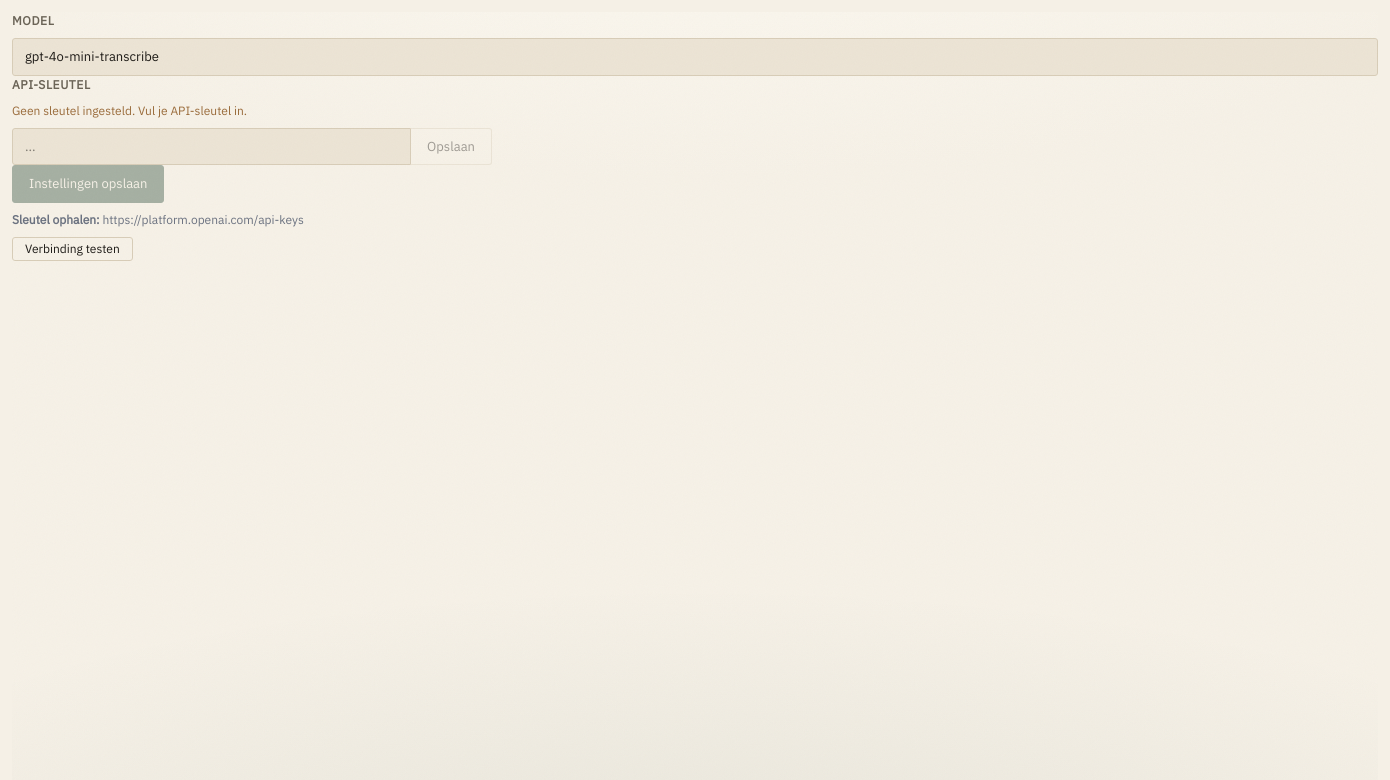
AudioAsrCard › starts with Save disabled on a clean load, enabled once a field is edited
Expected: the button with test id "save-audio-config" is disabled, [12, 165, 164, 202]
Type "whisper-1" into the field with test id "audio-model" at (695, 57), box [12, 38, 1378, 76]
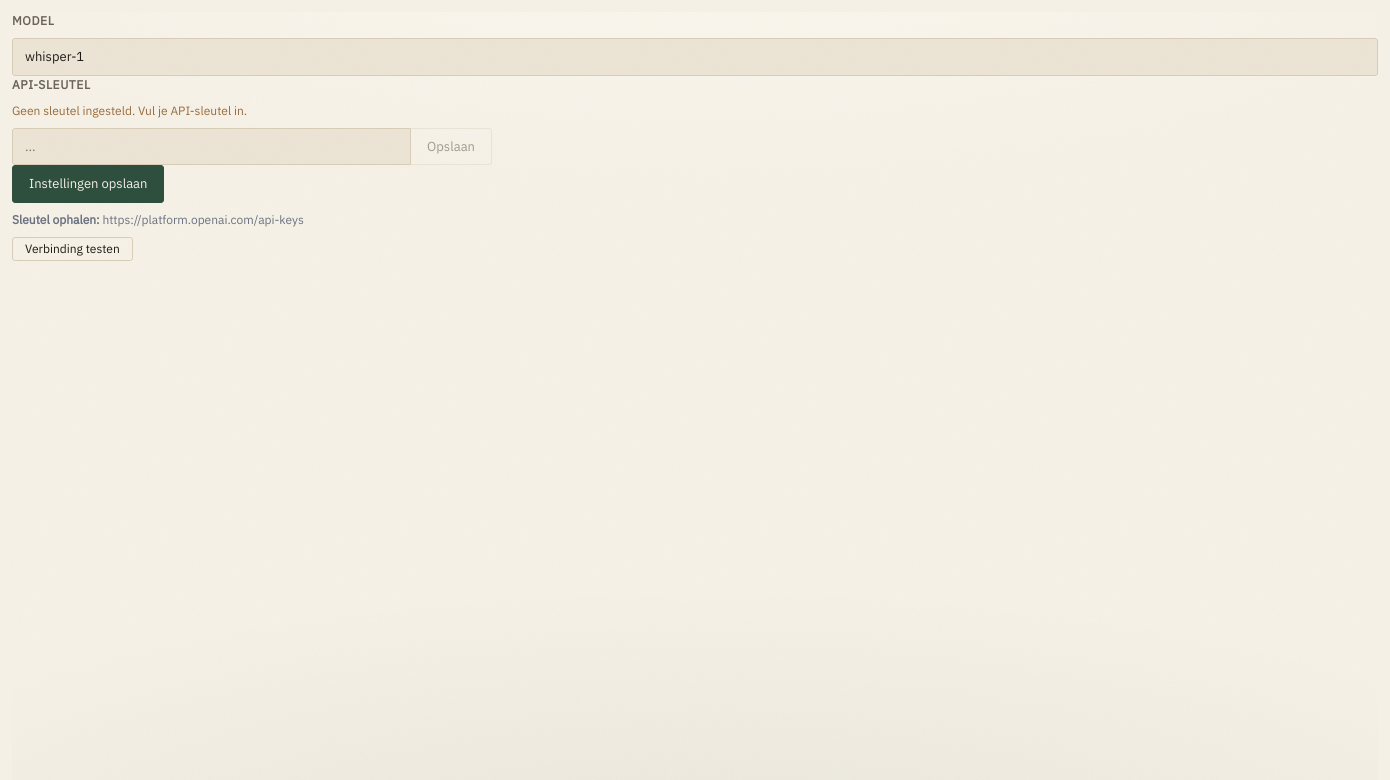
Expected: the button with test id "save-audio-config" is enabled, [12, 165, 164, 202]
